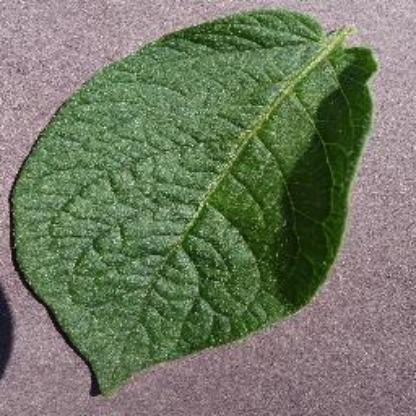Healthy-plant: (10, 6, 378, 396)
